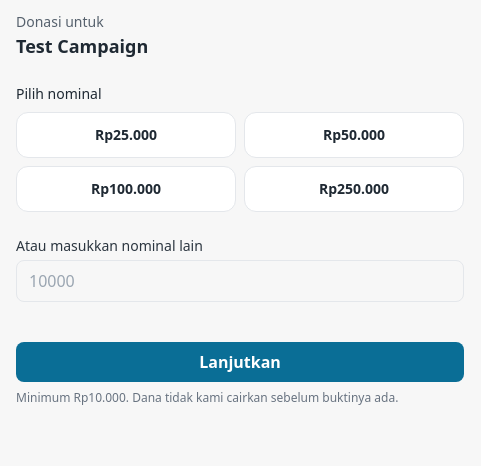
it: (consumer) campaign/[slug]/donation-amount rendering › refuses an amount below the minimum, and says what the minimum is
This screenshot has width=481, height=466.
Type "1" into the field labelled "Atau masukkan nominal lain" at (240,281), box [16, 260, 464, 302]
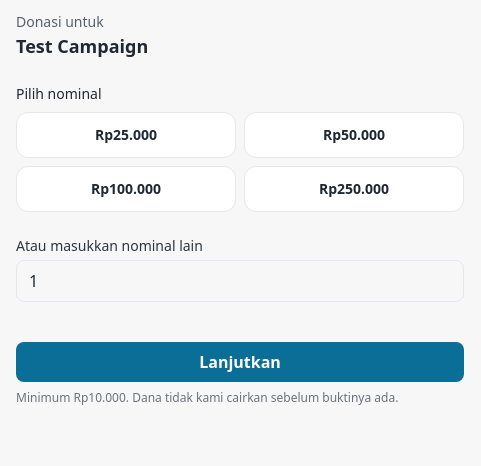
Click the button "Lanjutkan" at (240,362), box [16, 342, 464, 382]
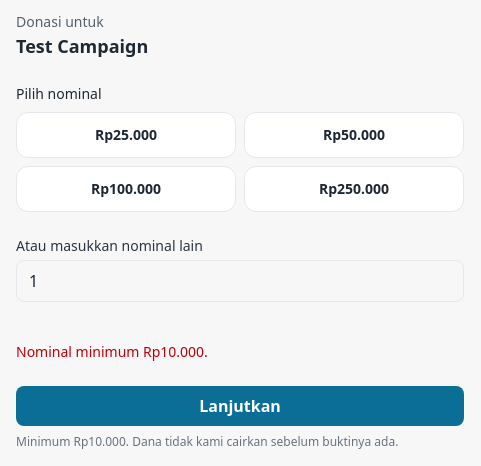
Expected: the message shows "Rp10.000", [16, 342, 208, 361]
